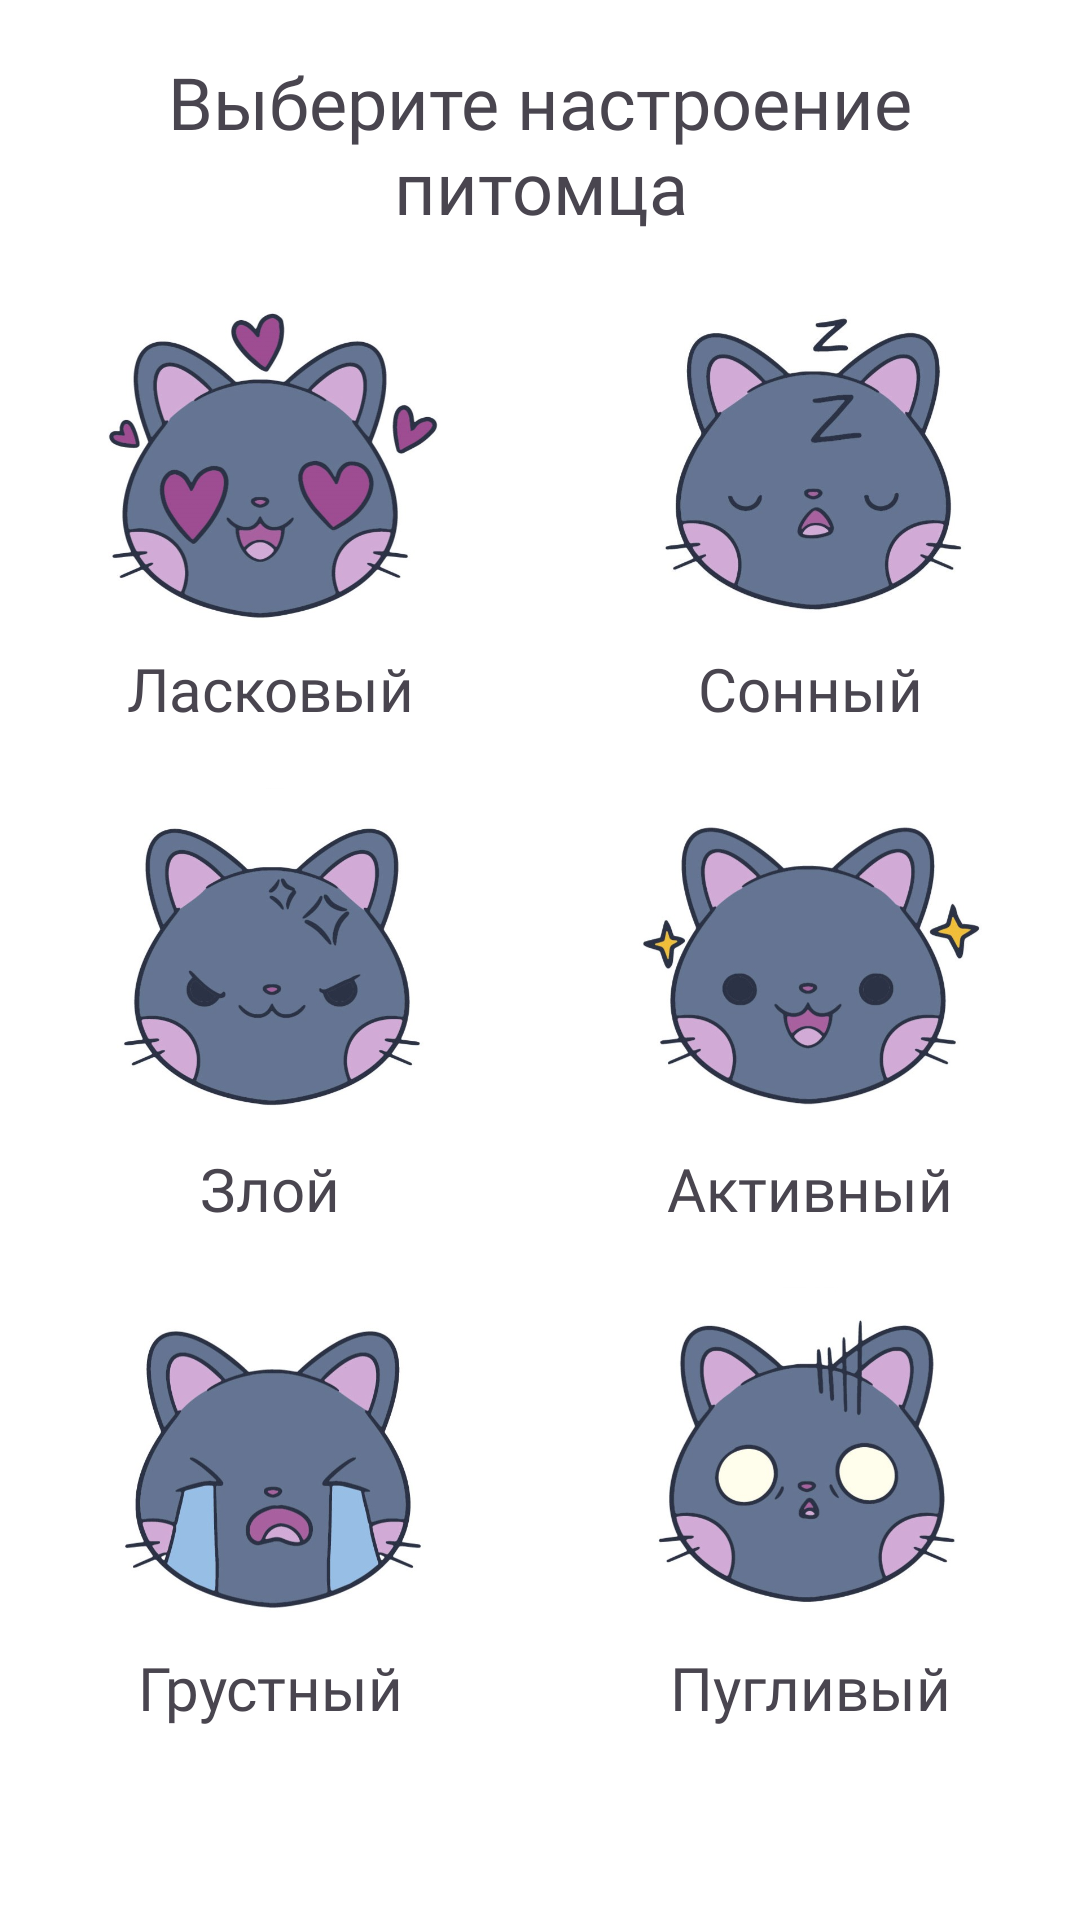

Icon bounding boxes for this 1080w x 1920h phone screenshot, format (x1, y1, x2, y2):
cat: (643, 827, 979, 1104)
